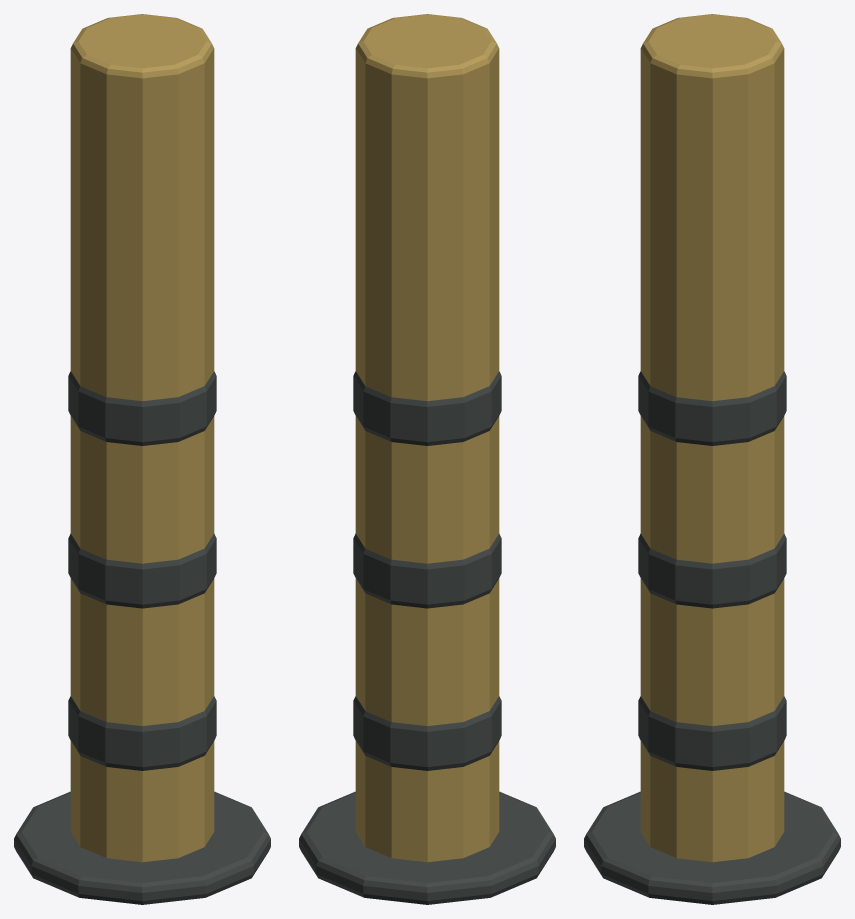
Rendered from env_bollard.gltf.
The picture shows the model from 3 angles, left to right: view 1: azimuth 30°, elevation 25°; view 2: azimuth 150°, elevation 25°; view 3: azimuth 270°, elevation 25°; orthographic projection.
Parts seen in each view (by area): view 1: env_bollard__mustard, env_bollard__dark_steel; view 2: env_bollard__mustard, env_bollard__dark_steel; view 3: env_bollard__mustard, env_bollard__dark_steel.
Boxes of the visible parts, bbox=[...] form: env_bollard__mustard: bbox=[70, 14, 214, 862]; env_bollard__dark_steel: bbox=[14, 371, 270, 904]; env_bollard__mustard: bbox=[355, 14, 499, 862]; env_bollard__dark_steel: bbox=[299, 371, 555, 904]; env_bollard__mustard: bbox=[640, 14, 784, 862]; env_bollard__dark_steel: bbox=[584, 371, 840, 904].
Bounding box in the file's own units: 0.86 × 3 × 0.86.
